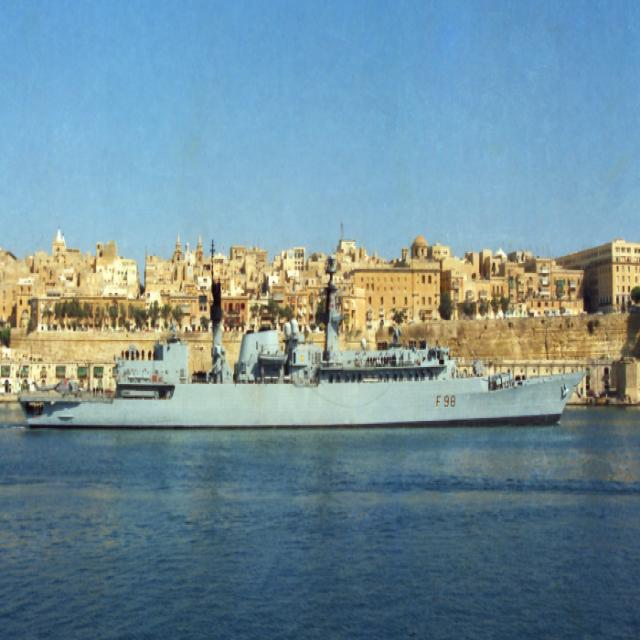Fragata: (16, 279, 590, 434)
